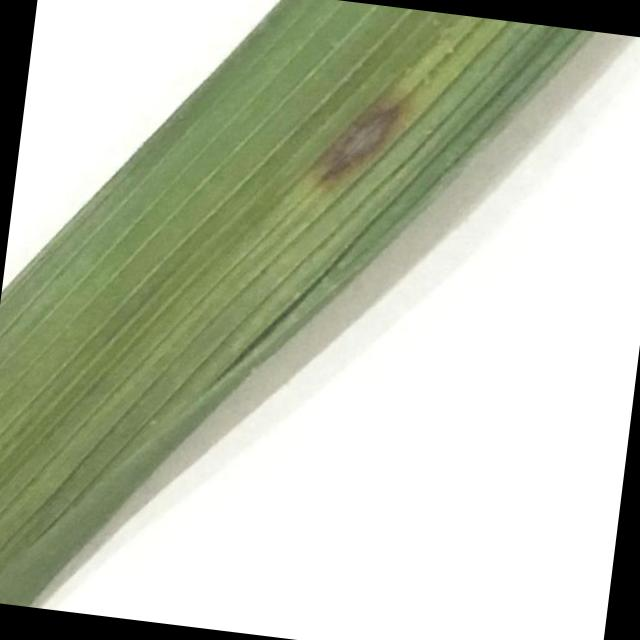Rice_Blast: (306, 54, 416, 208)
